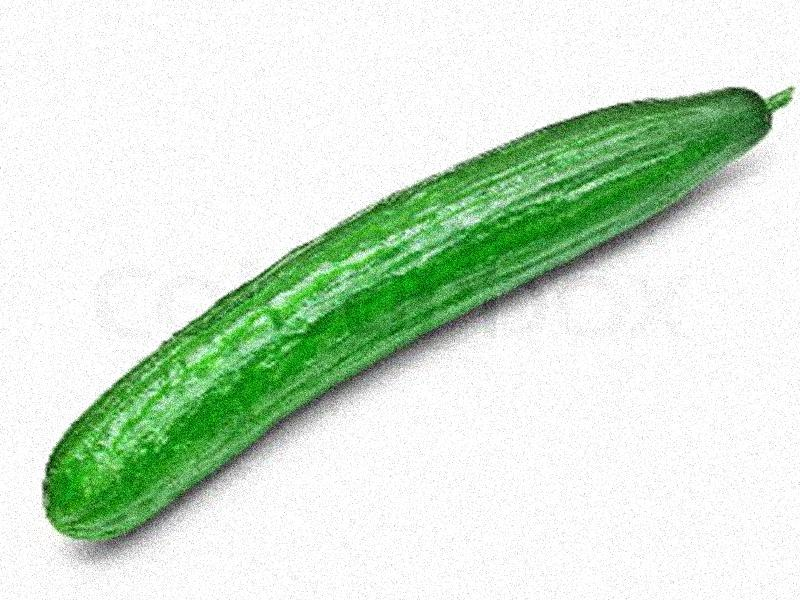Cucumber: (46, 87, 800, 544)
